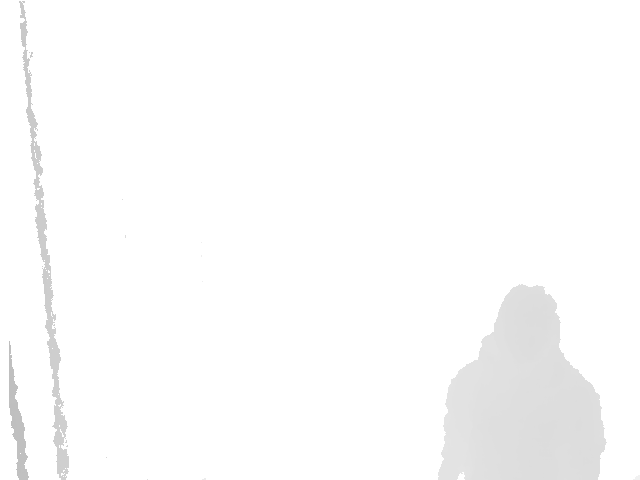head: (482, 286, 560, 366)
person: (437, 286, 607, 480)
